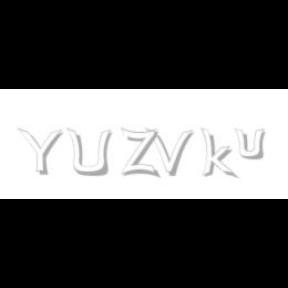U: (66, 128, 112, 178)
V: (145, 128, 193, 176)
Y: (17, 128, 63, 176)
Z: (122, 128, 158, 178)
k: (200, 128, 238, 180)
u: (234, 128, 268, 160)
